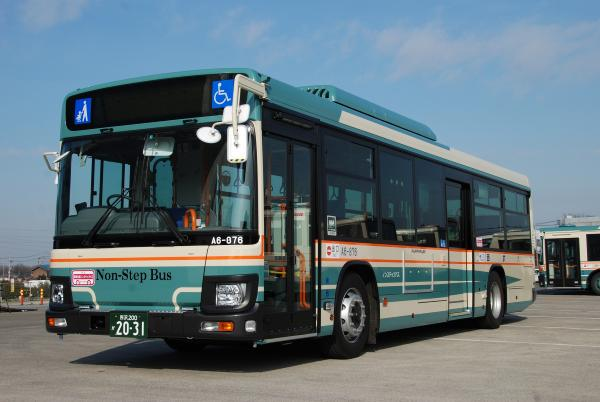destination: (94, 77, 203, 127)
